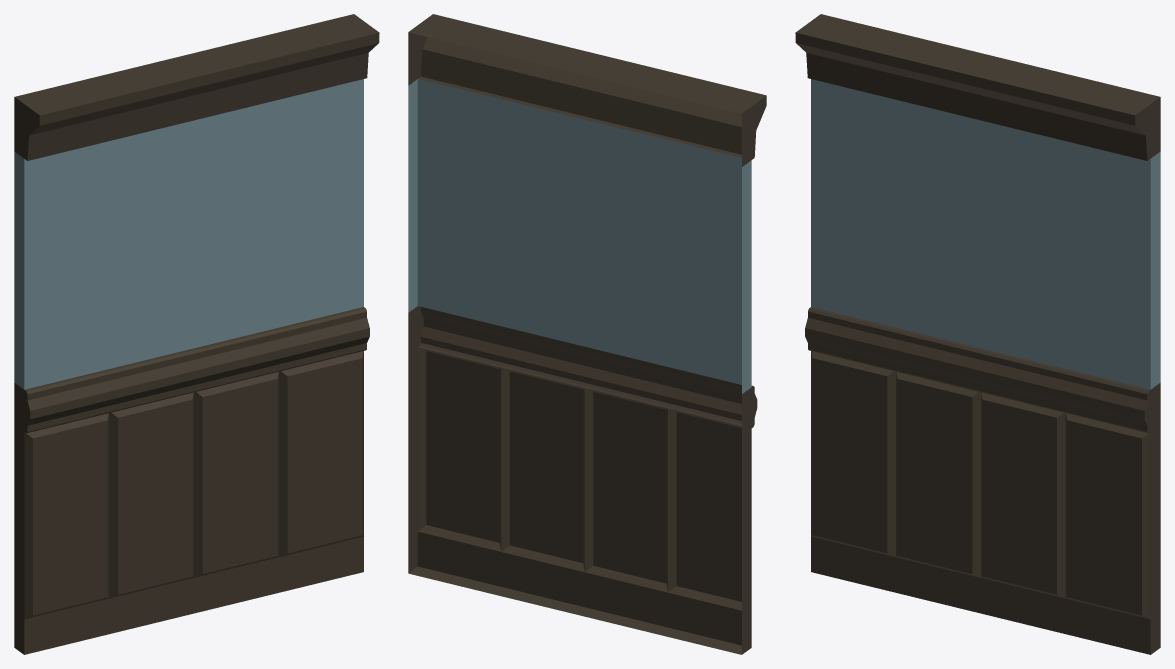
The model's file is Wall2.fbx.
3 views of the same model, side by side, from view 1: azimuth 30°, elevation 25°; view 2: azimuth 150°, elevation 25°; view 3: azimuth 330°, elevation 25° (orthographic).
Parts seen in each view (by area): view 1: Wall2; view 2: Wall2; view 3: Wall2.
Boxes of the visible parts, x1,y1,x2,y2 form: Wall2: (14,14,379,654); Wall2: (408,14,766,654); Wall2: (795,14,1160,654).
Size of the model in its own units: 200 by 310 by 25.91.
